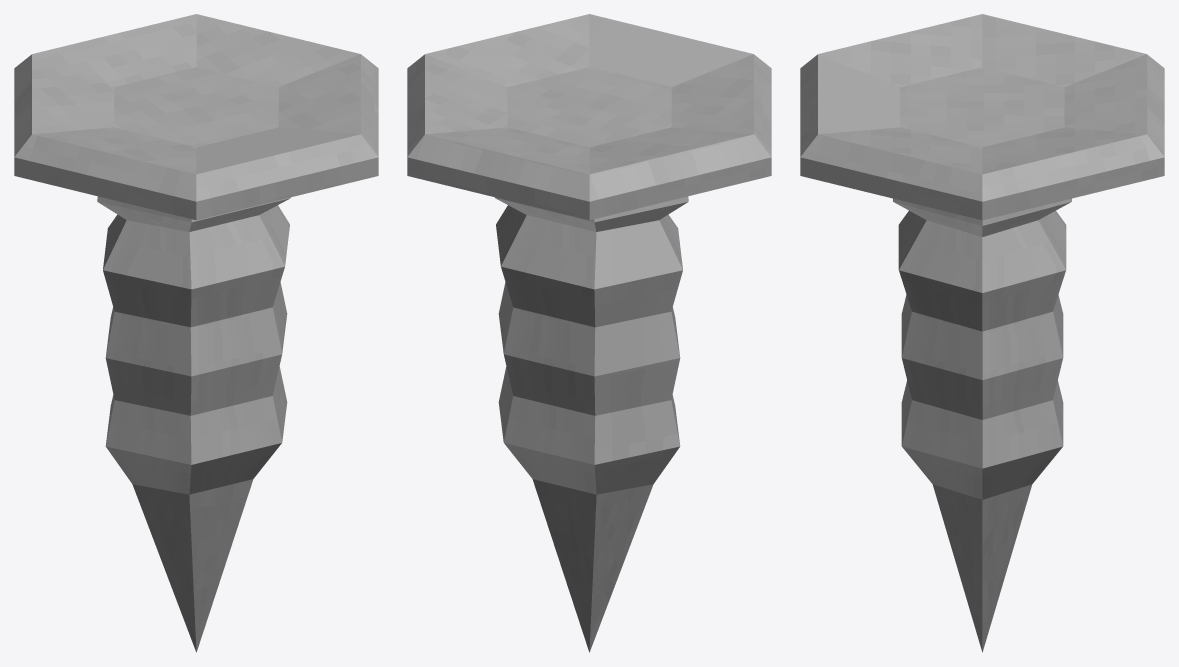
File: Screw.fbx
3 renders of one model, left to right at view 1: azimuth 30°, elevation 25°; view 2: azimuth 150°, elevation 25°; view 3: azimuth 270°, elevation 25°, orthographic.
Visible parts, largest first — view 1: cylinder; view 2: cylinder; view 3: cylinder.
Boxes of the visible parts, x1=… form: cylinder: x1=14, y1=14, x2=378, y2=652; cylinder: x1=407, y1=14, x2=771, y2=652; cylinder: x1=800, y1=14, x2=1164, y2=652.
Size of the model in its own units: 128 by 188 by 111.
1 material, 1 textured.
